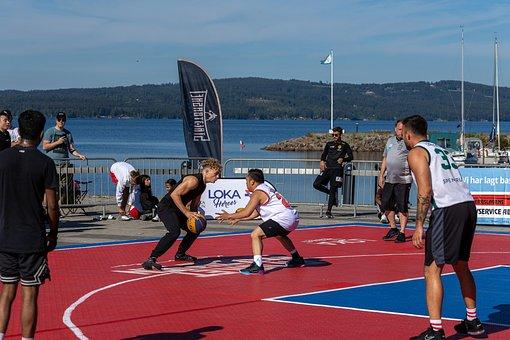basketball: (187, 213, 210, 234)
